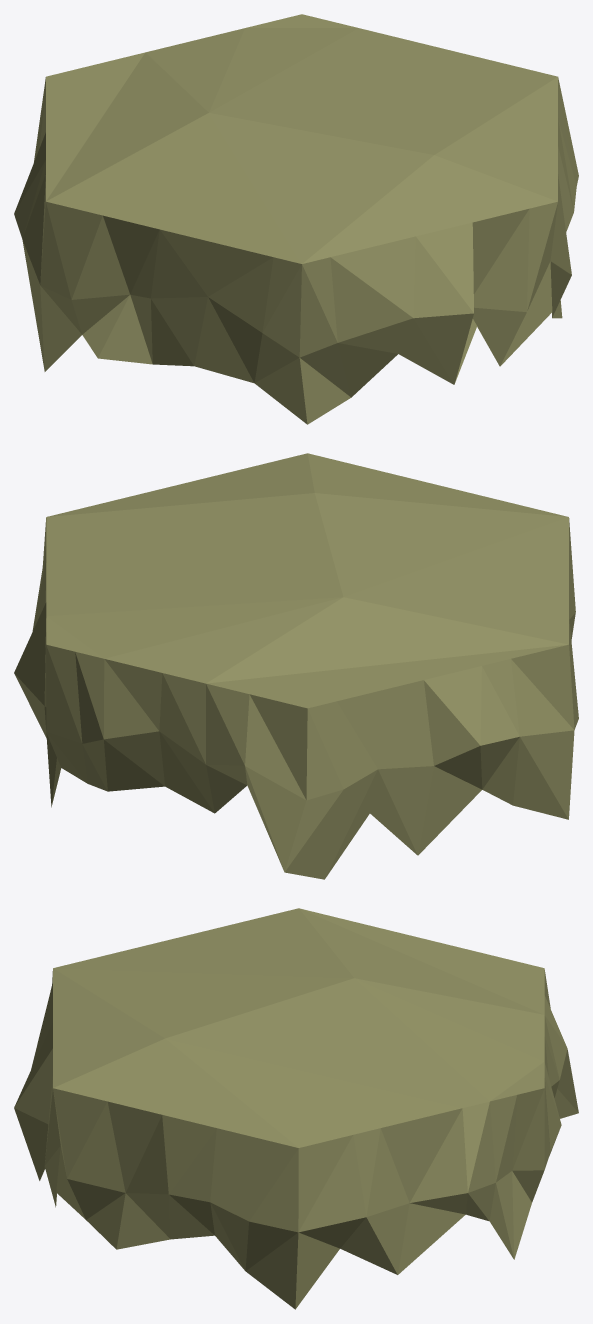
The model's file is Hexagone 3.FBX.
3 views of the same model, one above another, from view 1: azimuth 30°, elevation 25°; view 2: azimuth 150°, elevation 25°; view 3: azimuth 270°, elevation 25° (orthographic). The views are drawn at different scales.
Visible parts, largest first — view 1: Hexagone 2; view 2: Hexagone 2; view 3: Hexagone 2.
Boxes of the visible parts, x1,y1,x2,y2 form: Hexagone 2: (14,14,578,424); Hexagone 2: (14,453,578,879); Hexagone 2: (14,908,578,1309).
Size of the model in its own units: 1022 by 364 by 995.
